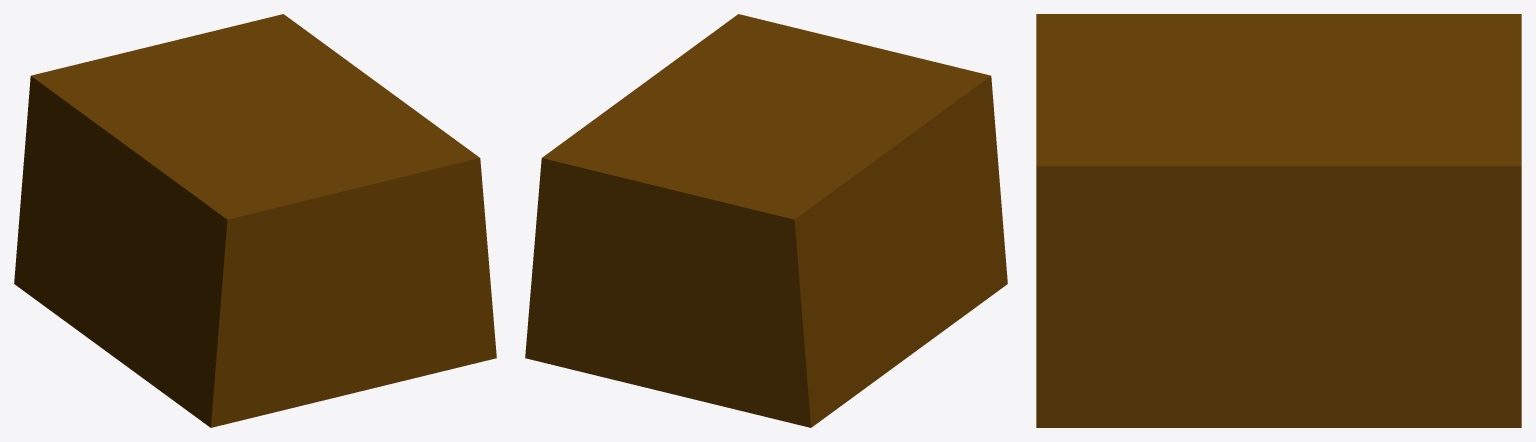
3 renders of one model, left to right at view 1: azimuth 30°, elevation 25°; view 2: azimuth 150°, elevation 25°; view 3: azimuth 270°, elevation 25°, orthographic. The views are drawn at different scales.
Visible parts, largest first — view 1: 2; view 2: 2; view 3: 2.
Boxes of the visible parts, bbox=[...] form: 2: bbox=[14, 14, 496, 427]; 2: bbox=[525, 14, 1007, 427]; 2: bbox=[1036, 14, 1521, 427].
Size of the model in its own units: 12.84 by 8.76 by 15.3.
